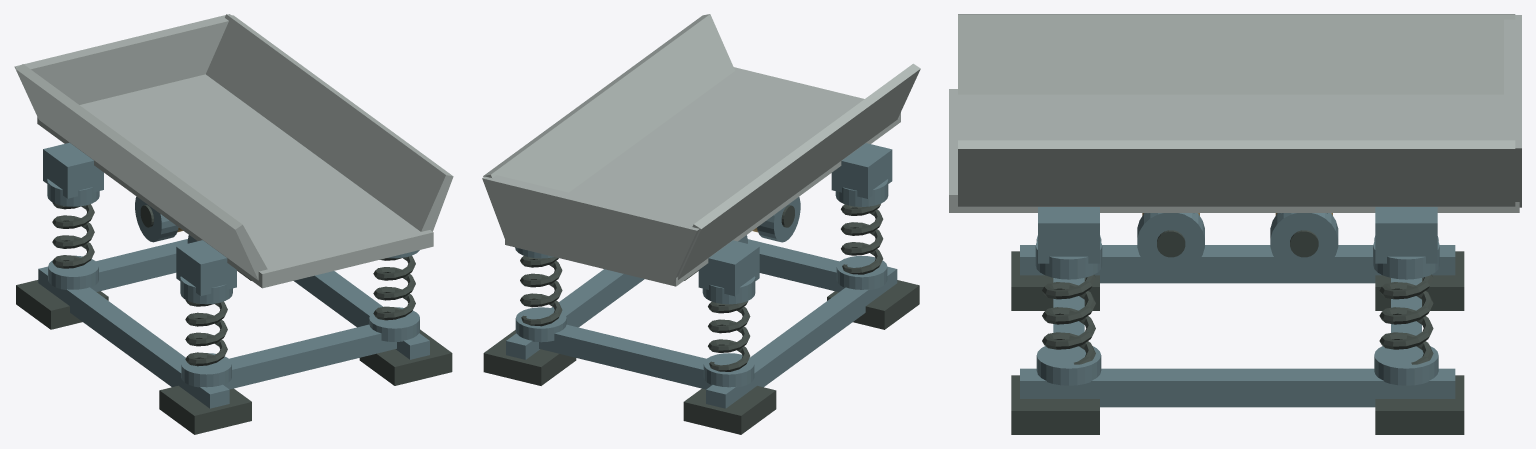
3 renders of one model, left to right at view 1: azimuth 30°, elevation 25°; view 2: azimuth 150°, elevation 25°; view 3: azimuth 270°, elevation 25°, orthographic. The views are drawn at different scales.
Visible parts, largest first — view 1: WholeLongFlatTrayFloor, WholeFlaredTraySide1, WholeFlaredTraySide-1, WholeRaisedTrayRearWall, WholeLowLongitudinalFrameRail-1, WholeLowFrameCrossRail-1, WholeLowLongitudinalFrameRail1, WholeFiniteFoot-1_-1, WholeLowFrameCrossRail1, WholeFiniteFoot1_-1, WholeUpperTrayCarrier-1_-1, WholeUpperTrayCarrier-1_1 (+10 smaller); view 2: WholeLongFlatTrayFloor, WholeFlaredTraySide1, WholeRaisedTrayRearWall, WholeFlaredTraySide-1, WholeLowLongitudinalFrameRail-1, WholeLowFrameCrossRail1, WholeLowLongitudinalFrameRail1, WholeFiniteFoot-1_1, WholeLowFrameCrossRail-1, WholeFiniteFoot1_1, WholeUpperTrayCarrier-1_-1, WholeUpperTrayCarrier-1_1 (+10 smaller); view 3: WholeFlaredTraySide-1, WholeFlaredTraySide1, WholeLongFlatTrayFloor, WholeLowLongitudinalFrameRail1, WholeLowLongitudinalFrameRail-1, WholeFiniteFoot1_1, WholeFiniteFoot1_-1, WholeUpperTrayCarrier1_1, WholeUpperTrayCarrier1_-1, WholeProudEccentricEndCover1_1, WholeProudEccentricEndCover0_1, WholeContinuousFourTurnCoil1_1 (+12 smaller).
Boxes of the visible parts, x1,y1,x2,y2 form: WholeLongFlatTrayFloor: (37, 74, 433, 288); WholeFlaredTraySide1: (206, 14, 453, 231); WholeFlaredTraySide-1: (15, 64, 267, 280); WholeRaisedTrayRearWall: (14, 14, 230, 108); WholeLowLongitudinalFrameRail-1: (38, 266, 229, 408); WholeLowFrameCrossRail-1: (224, 324, 396, 389); WholeLowLongitudinalFrameRail1: (293, 271, 429, 359); WholeFiniteFoot-1_-1: (159, 385, 251, 434); WholeLowFrameCrossRail1: (91, 239, 187, 291); WholeFiniteFoot1_-1: (359, 329, 452, 385); WholeUpperTrayCarrier-1_-1: (176, 240, 236, 295); WholeUpperTrayCarrier-1_1: (43, 142, 103, 198); WholeLongFlatTrayFloor: (505, 67, 900, 286); WholeFlaredTraySide1: (483, 14, 734, 192); WholeRaisedTrayRearWall: (482, 175, 699, 283); WholeFlaredTraySide-1: (678, 63, 920, 279); WholeLowLongitudinalFrameRail-1: (706, 266, 897, 408); WholeLowFrameCrossRail1: (539, 324, 711, 389); WholeLowLongitudinalFrameRail1: (506, 269, 644, 359); WholeFiniteFoot-1_1: (683, 385, 776, 434); WholeLowFrameCrossRail-1: (747, 239, 844, 291); WholeFiniteFoot1_1: (483, 330, 576, 385); WholeUpperTrayCarrier-1_-1: (831, 143, 892, 198); WholeUpperTrayCarrier-1_1: (698, 240, 759, 296); WholeFlaredTraySide-1: (958, 14, 1515, 94); WholeFlaredTraySide1: (958, 140, 1515, 206); WholeLongFlatTrayFloor: (949, 89, 1519, 212); WholeLowLongitudinalFrameRail1: (1020, 368, 1455, 407); WholeLowLongitudinalFrameRail-1: (1020, 245, 1455, 283); WholeFiniteFoot1_1: (1375, 375, 1464, 434); WholeFiniteFoot1_-1: (1011, 375, 1099, 434); WholeUpperTrayCarrier1_1: (1375, 207, 1437, 263); WholeUpperTrayCarrier1_-1: (1038, 207, 1099, 263); WholeProudEccentricEndCover1_1: (1270, 213, 1338, 273); WholeProudEccentricEndCover0_1: (1137, 213, 1204, 273); WholeContinuousFourTurnCoil1_1: (1379, 274, 1433, 364).
Bounding box in the file's own units: 1.7 × 1.38 × 2.58.
